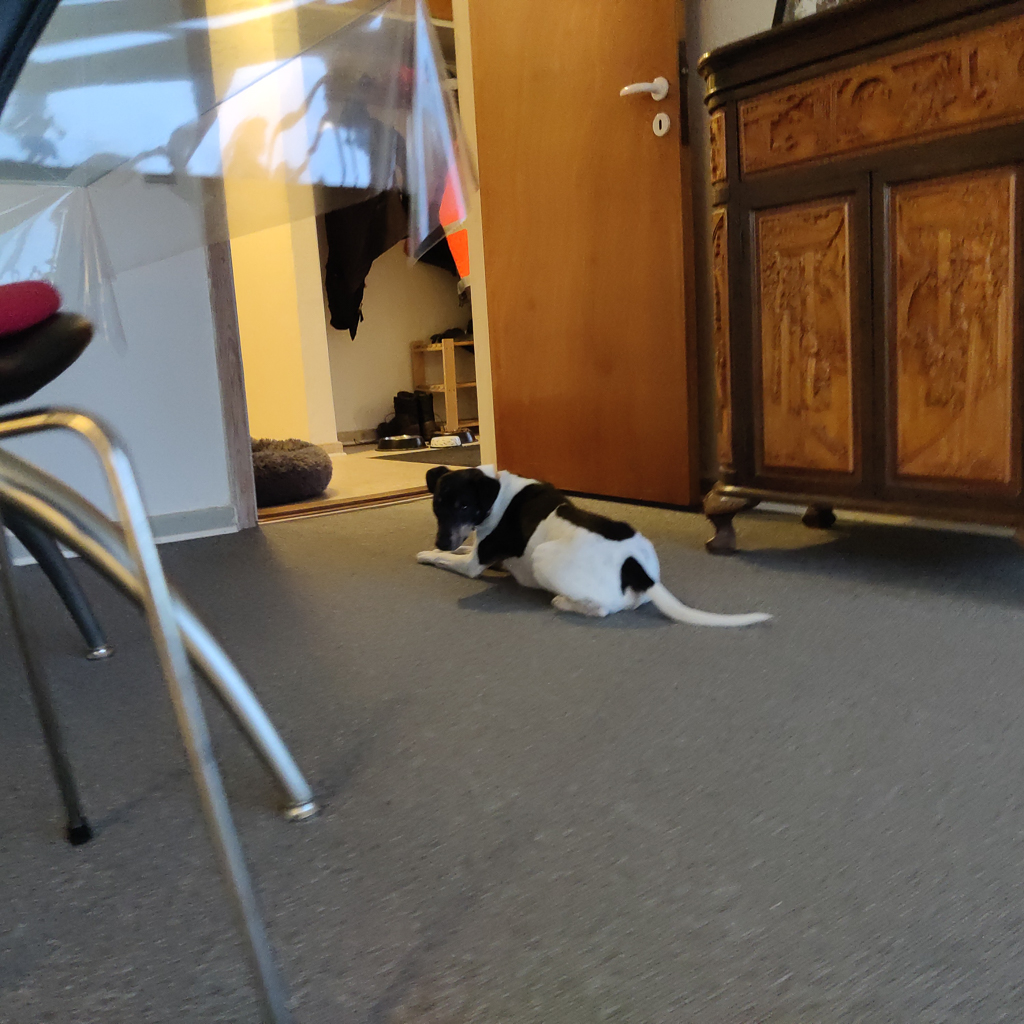Dog: (398, 445, 781, 628)
